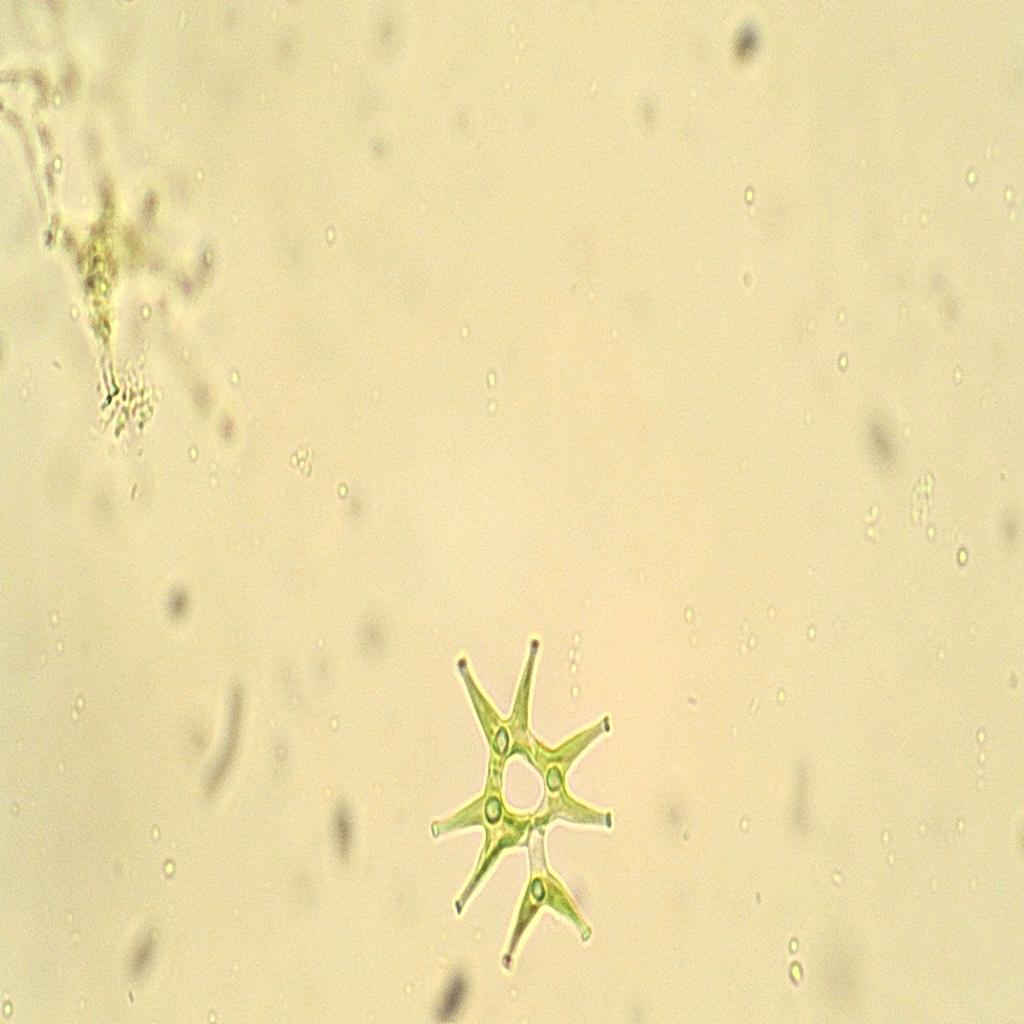Pediastrum_75FI: (418, 614, 630, 999)
